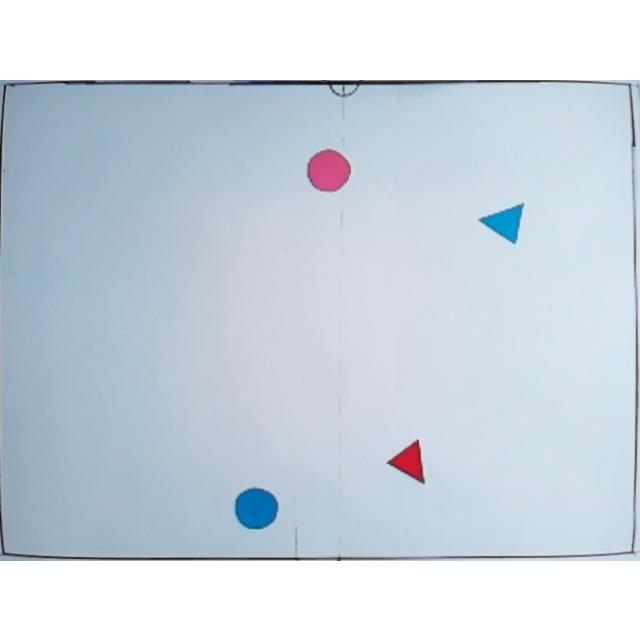blueCircle: (236, 486, 278, 528)
blueTriangle: (478, 199, 522, 243)
pinkCircle: (306, 148, 352, 192)
redTriangle: (387, 436, 429, 486)
